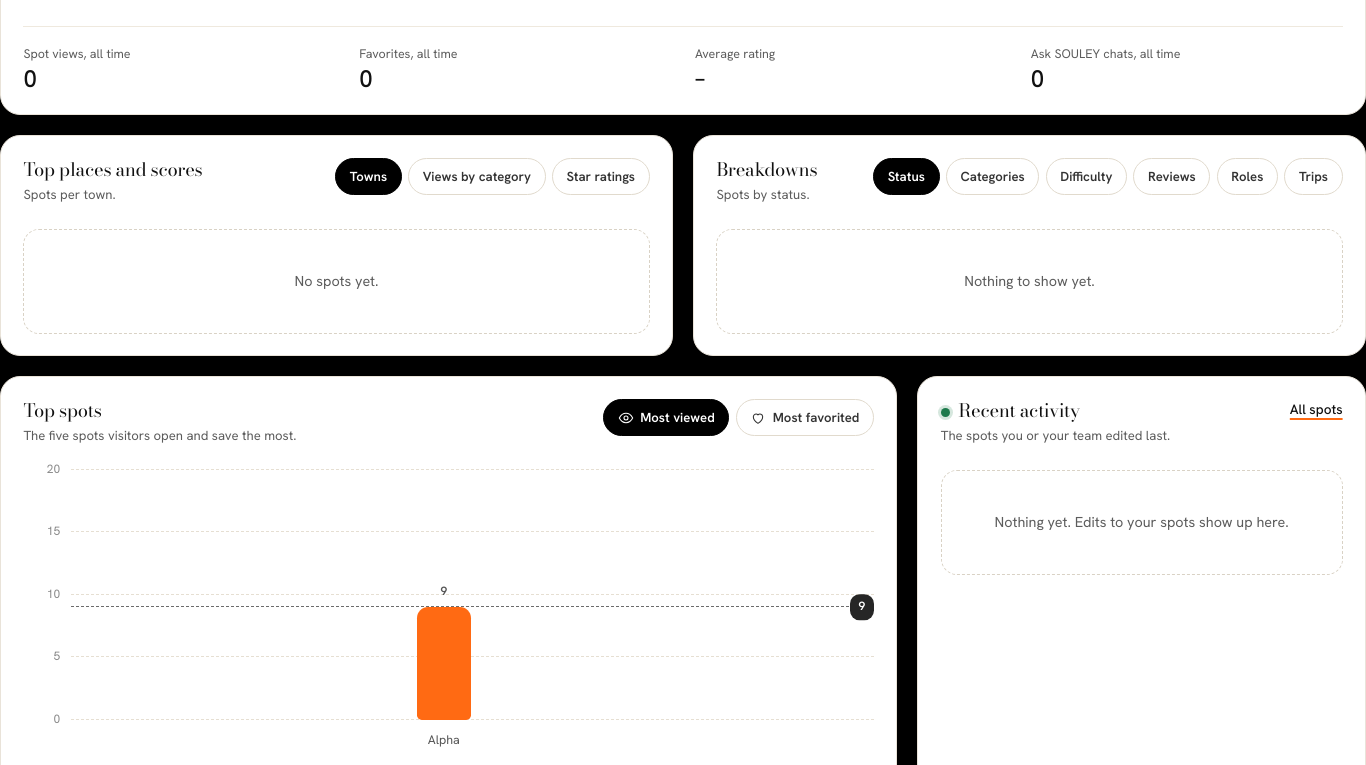
Scenario: Dashboard › switches the bar chart between views and favorites, each bar linking to its spot
(page scrolled)
Expected: the text "Alpha" is shown, 428,732 -> 460,748
Click the button "Most favorited" at [805, 418], box 736,399 -> 874,436
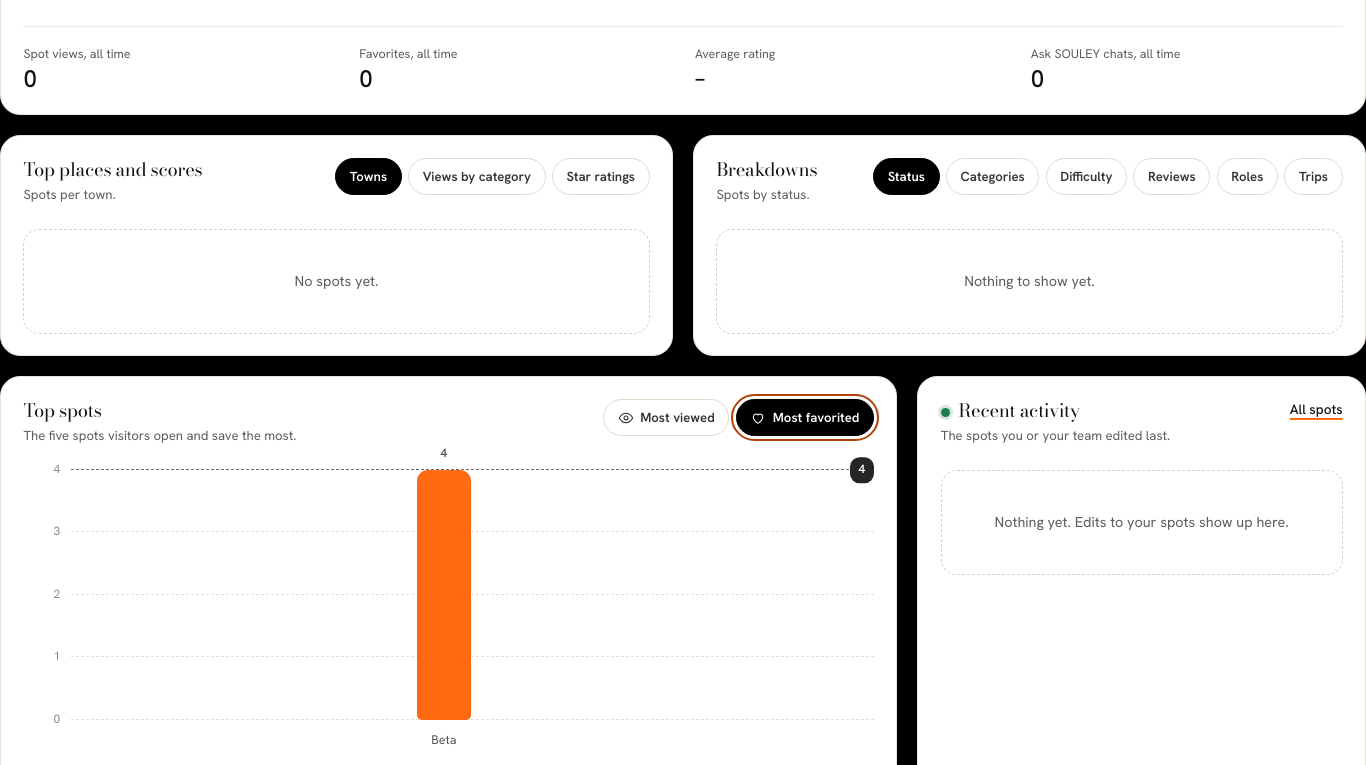
Expected: the text "Beta" is shown, 431,732 -> 456,748
Expected: the link "Alpha" is gone
